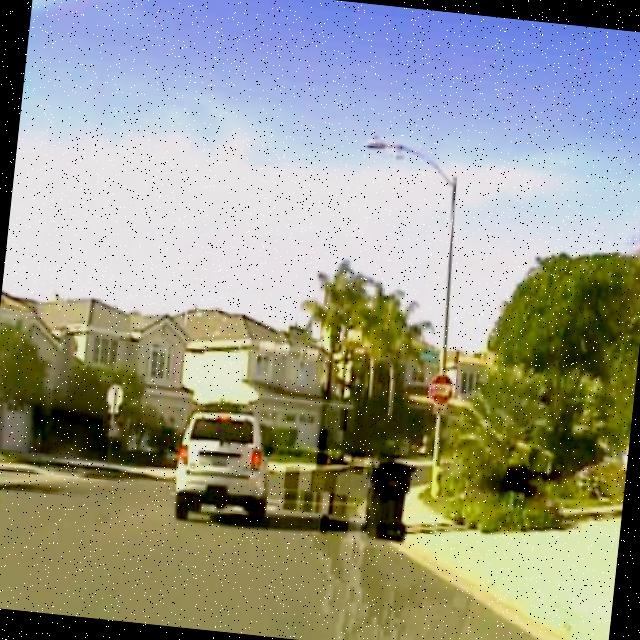Stop: (426, 372, 454, 409)
